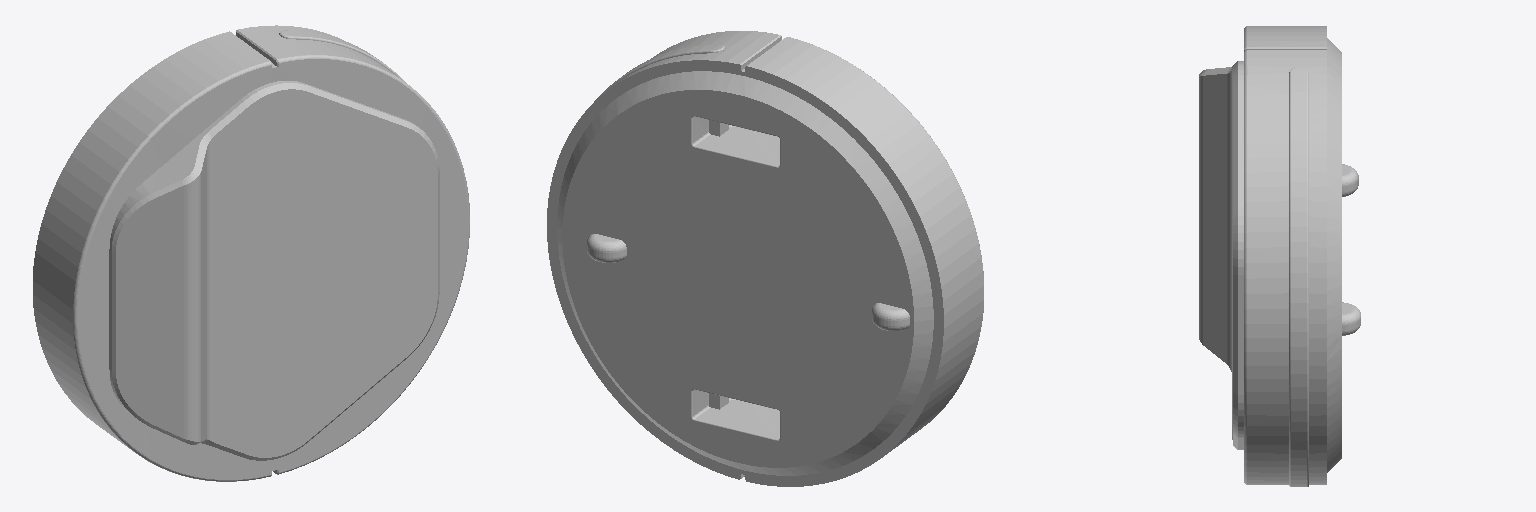
The model's file is main_body.obj.
The picture shows the model from 3 angles: view 1: azimuth 30°, elevation 25°; view 2: azimuth 150°, elevation 25°; view 3: azimuth 270°, elevation 25°; orthographic projection.
Bounding box in the file's own units: 0.3518 × 0.35 × 0.1243.